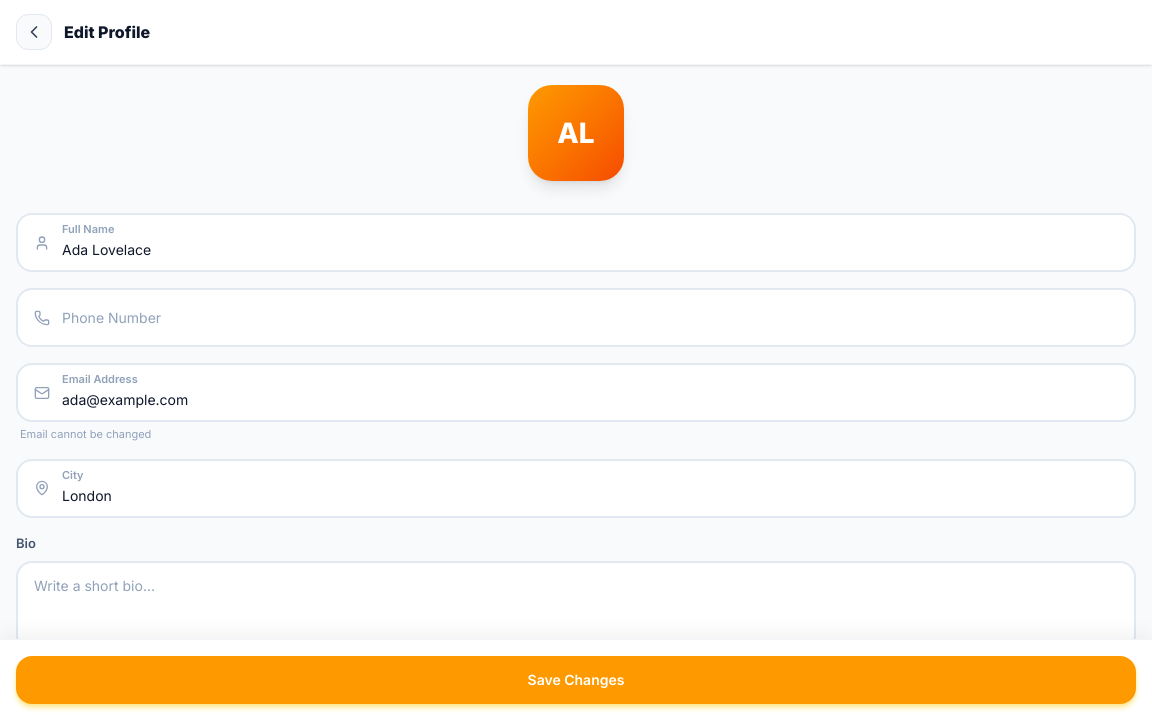
Test: EditProfilePage — a late refetch does not overwrite edits › still takes a newer server value for a field the person has not touched
Replace the text in the field showing "Ada Lovelace" with "Grace Hopper" at (576, 242), box [18, 215, 1134, 270]
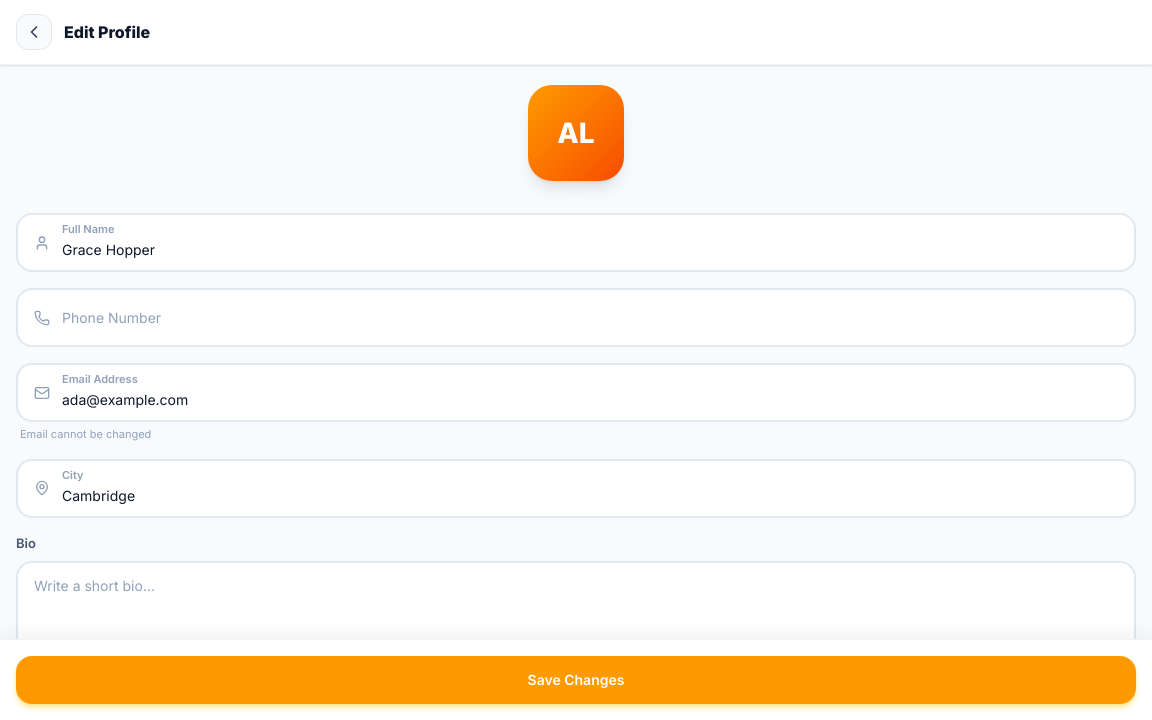
Result: the field showing "Cambridge" is shown at [18, 460, 1134, 516]
